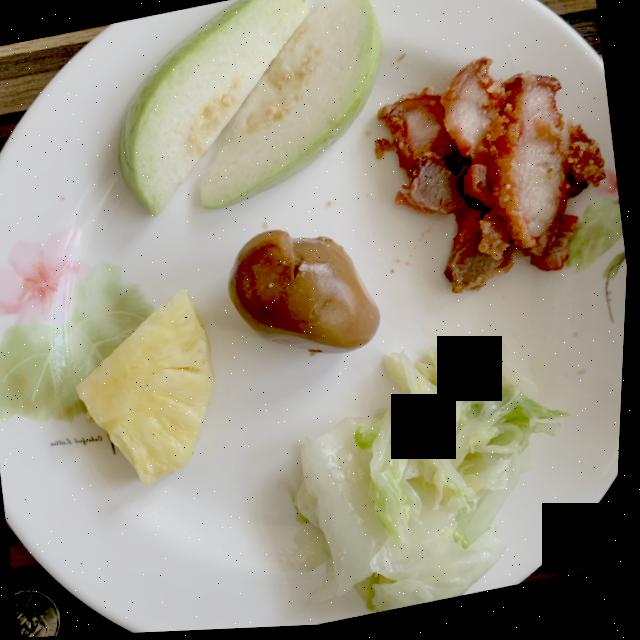cabbage: (297, 347, 571, 616)
coin: (19, 590, 66, 638)
guava -sliced-: (120, 0, 381, 217)
pineapple: (79, 292, 217, 488)
red grilled pork: (378, 62, 607, 298)
soy egg: (230, 232, 383, 357)
